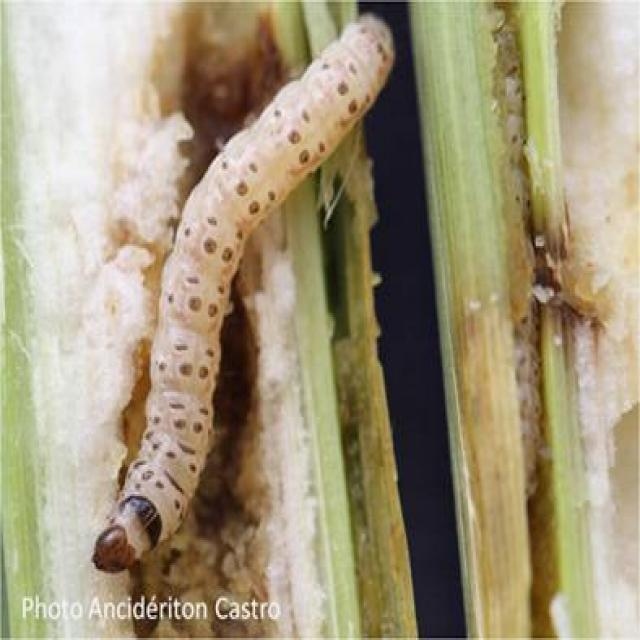cornborer-Larva-: (86, 5, 406, 583)
